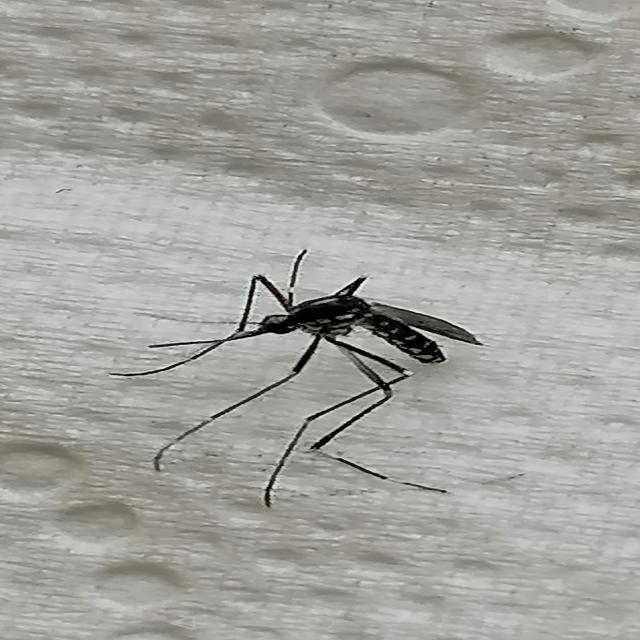albopictus: (96, 242, 511, 518)
